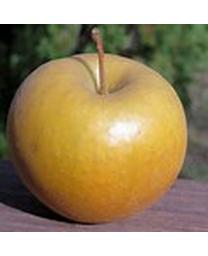apple: (5, 50, 188, 221)
